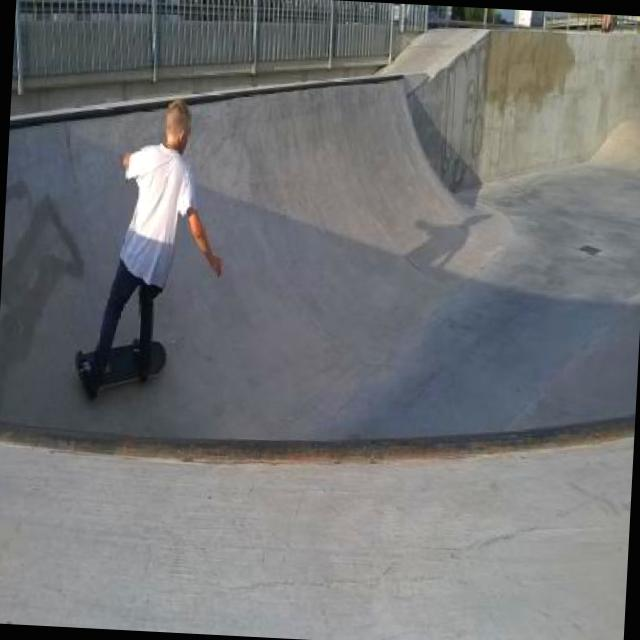Person: (74, 106, 214, 406)
